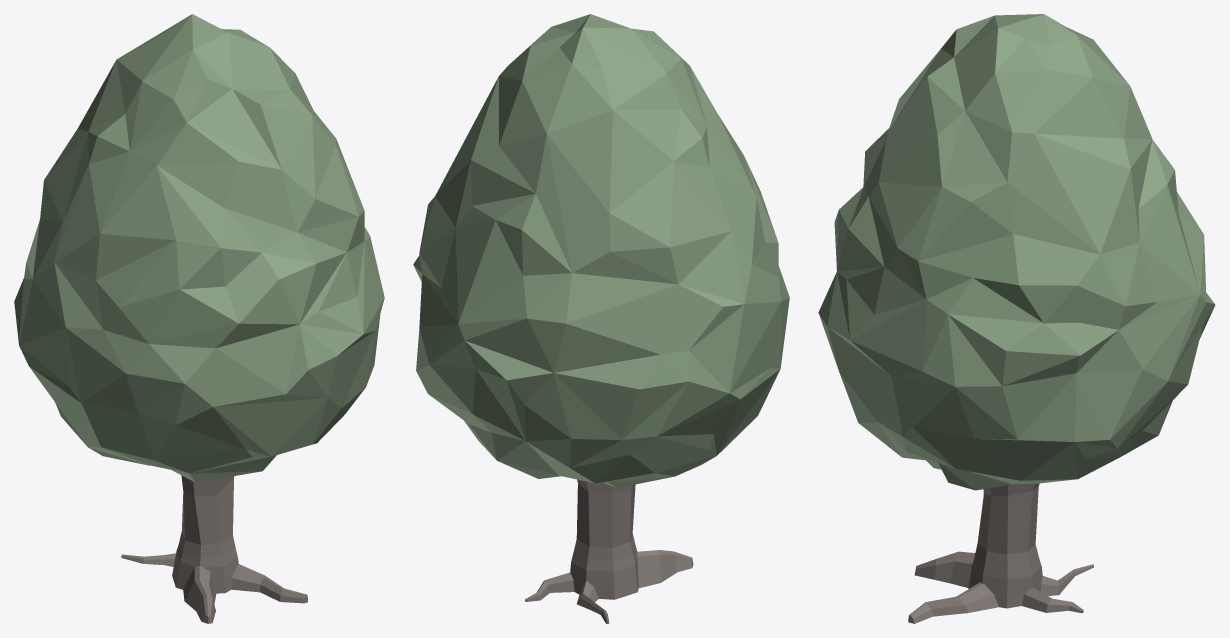
The model's file is Ash.fbx.
The picture shows the model from 3 angles, left to right: view 1: azimuth 30°, elevation 25°; view 2: azimuth 150°, elevation 25°; view 3: azimuth 270°, elevation 25°; orthographic projection. The views are drawn at different scales.
Visible parts, largest first — view 1: pCylinder11; view 2: pCylinder11; view 3: pCylinder11.
Part boxes in pixels (box(x1,y1,x2,y2)): pCylinder11: box(14, 14, 384, 623); pCylinder11: box(413, 14, 789, 623); pCylinder11: box(818, 14, 1215, 623).
Bounding box in the file's own units: 724 × 1225 × 757.
